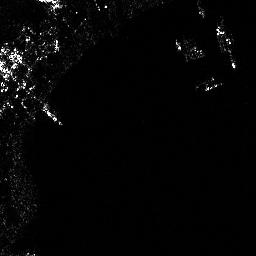ship: (214, 24, 236, 71)
